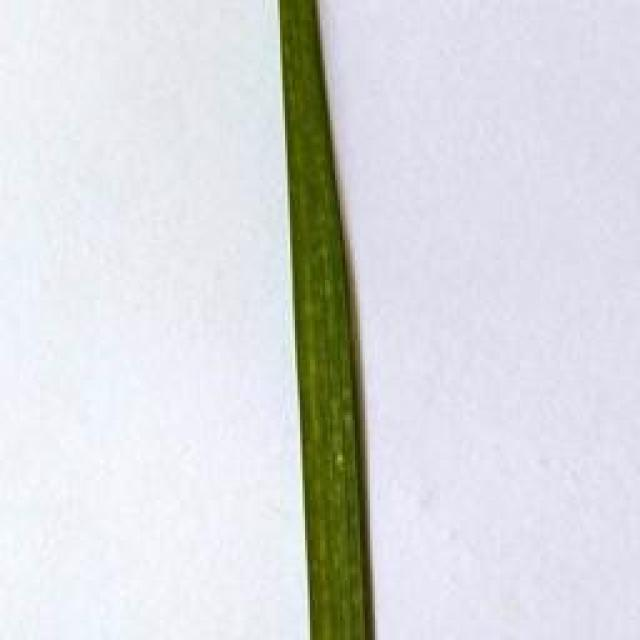Healthy-Plant: (280, 0, 376, 640)
